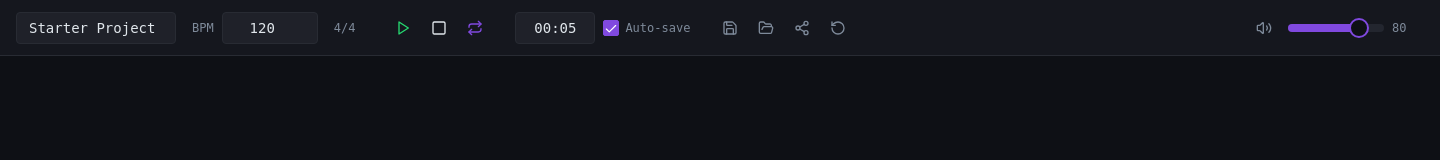
Scenario: TopBar › commits a valid interval on blur and rejects an over-max value
This screenshot has width=1440, height=160.
Replace the text in the field named "Autosave interval" with "90" at (555, 28), box [515,12,595,44]
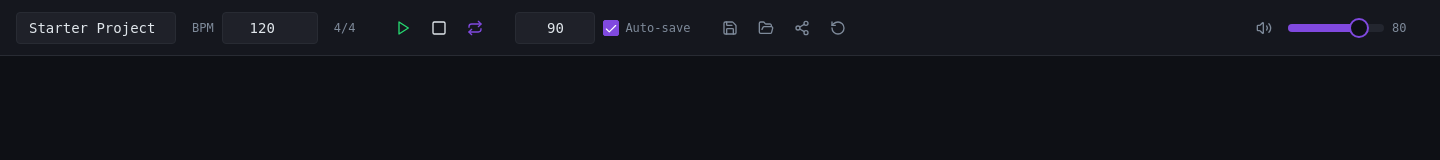
Leave the field named "Autosave interval", box [515,12,595,44]
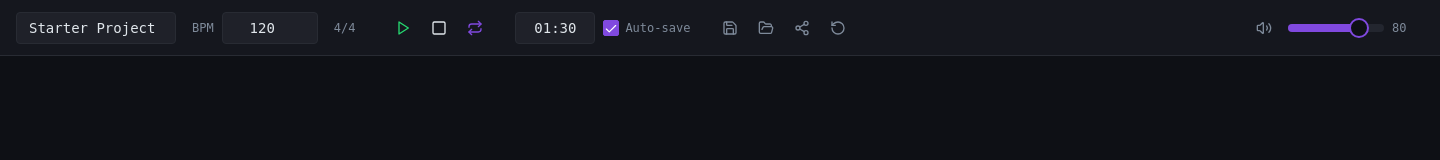
Expected: the field named "Autosave interval" holds "01:30"
Replace the text in the field named "Autosave interval" with "3601" at (555, 28), box [515,12,595,44]
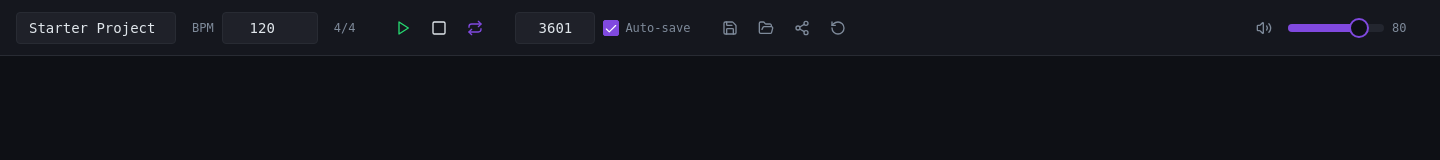
Leave the field named "Autosave interval", box [515,12,595,44]
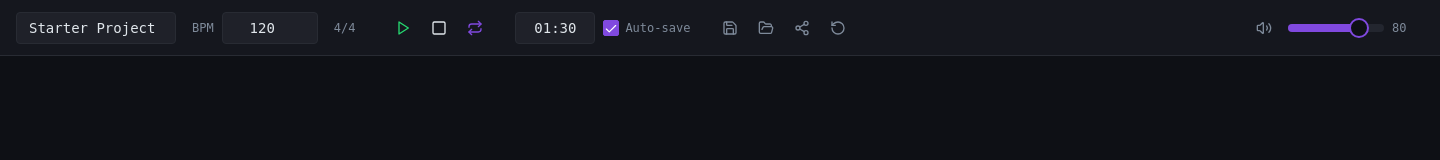
Expected: the field named "Autosave interval" holds "01:30", [515,12,595,44]
